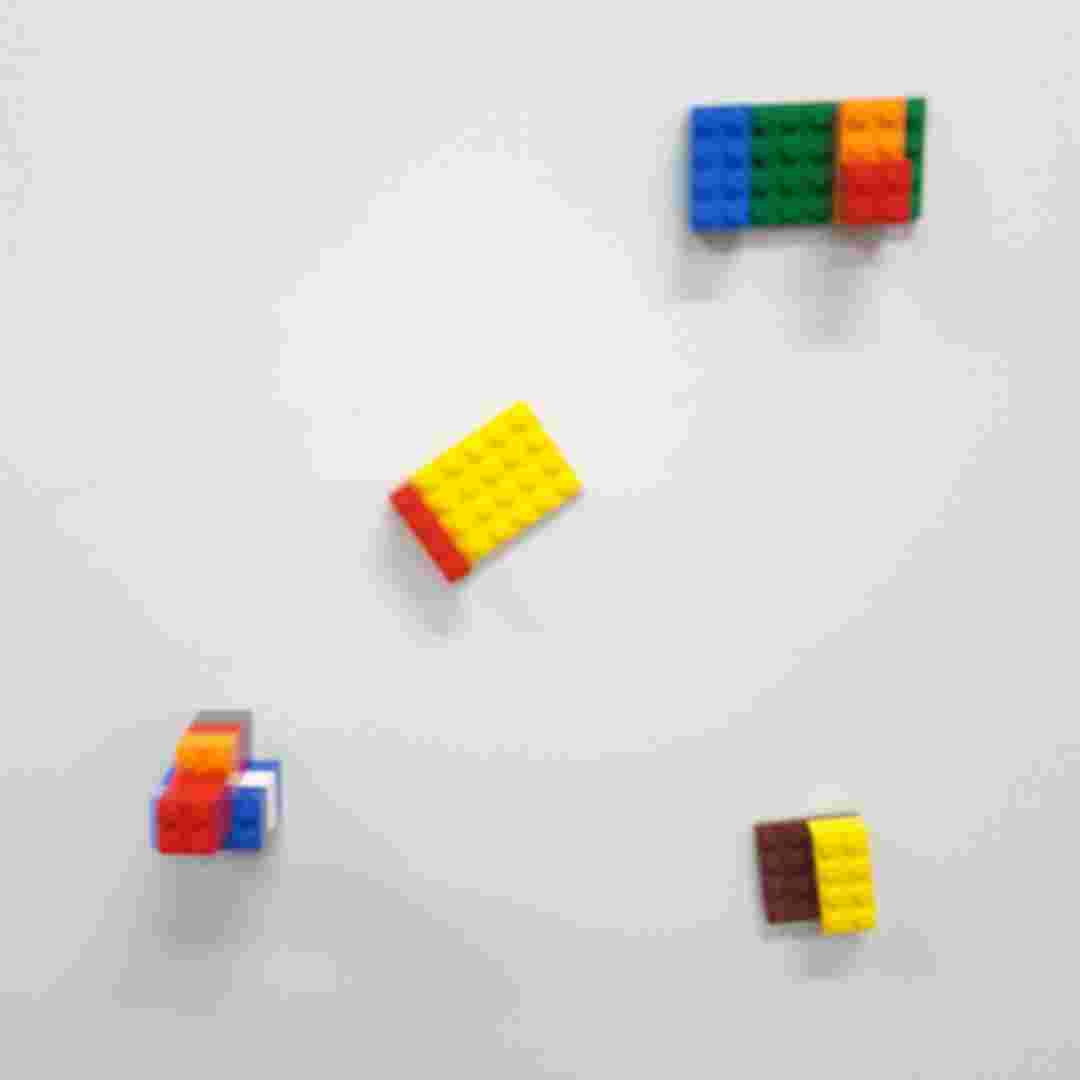LEGO: (386, 395, 586, 587), (687, 93, 927, 231), (149, 705, 291, 862), (752, 810, 884, 943)
